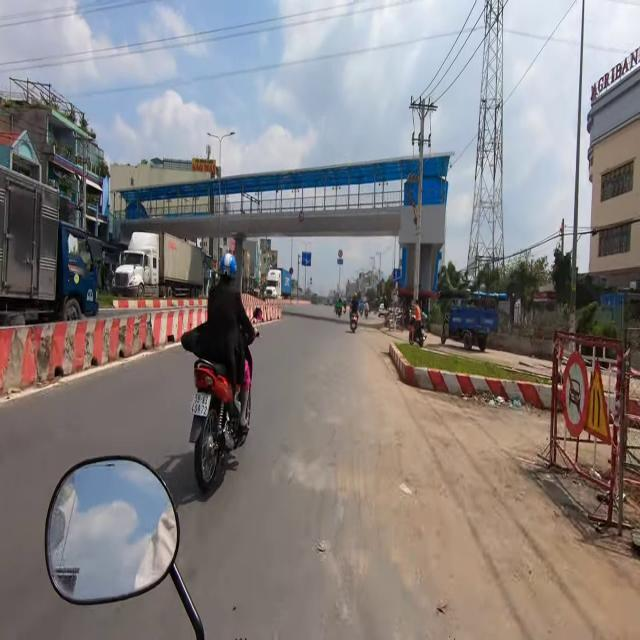bien_trang: (190, 391, 212, 421)
